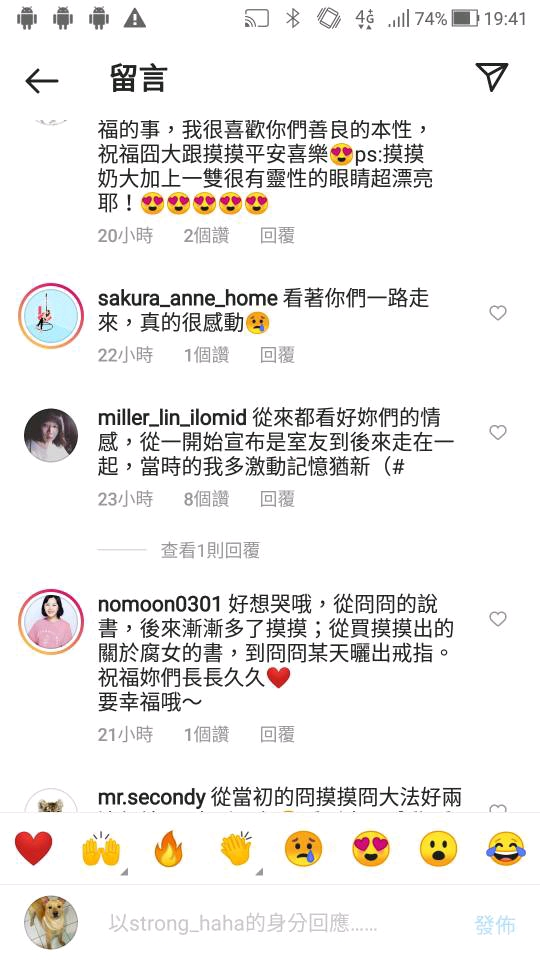back: (18, 53, 66, 102)
